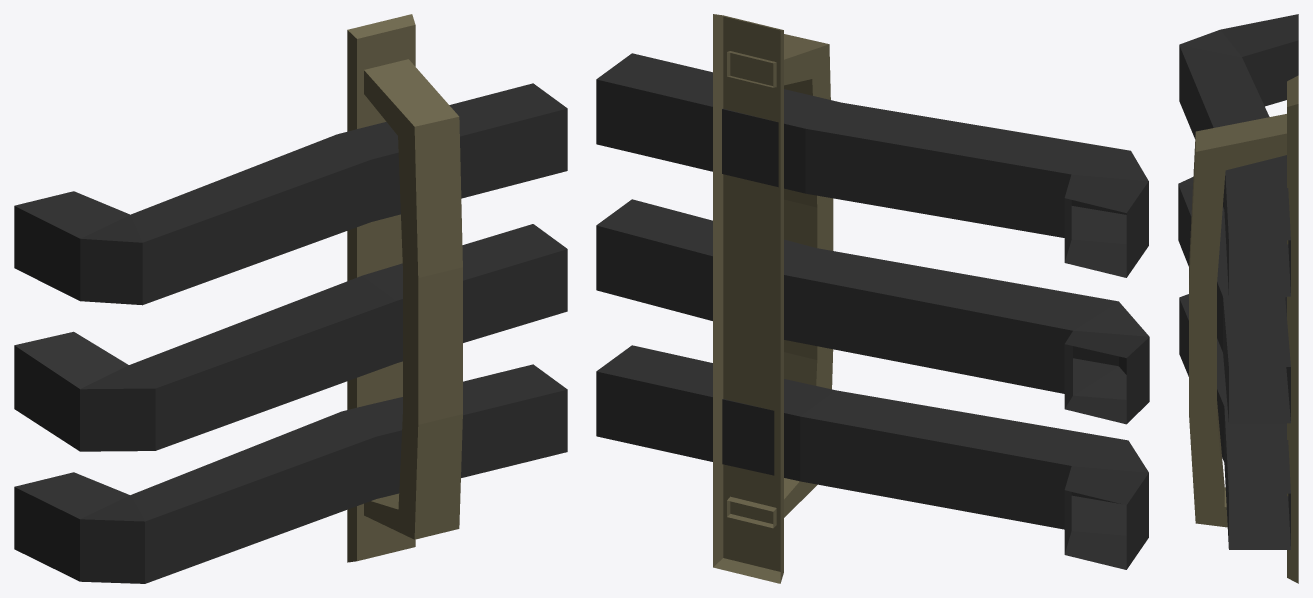
The model's file is SW_ENV_Wires3_StationWall_Ends.fbx.
3 renders of one model, left to right at view 1: azimuth 30°, elevation 25°; view 2: azimuth 150°, elevation 25°; view 3: azimuth 270°, elevation 25°, orthographic. The views are drawn at different scales.
Parts seen in each view (by area): view 1: SW_ENV_Wires3_StationWall_Ends; view 2: SW_ENV_Wires3_StationWall_Ends; view 3: SW_ENV_Wires3_StationWall_Ends.
Boxes of the visible parts, box(x1,y1,x2,y2) form: SW_ENV_Wires3_StationWall_Ends: box(14, 14, 567, 583); SW_ENV_Wires3_StationWall_Ends: box(596, 14, 1149, 583); SW_ENV_Wires3_StationWall_Ends: box(1178, 14, 1298, 583).
Size of the model in its own units: 34.5 by 34.12 by 7.77.
